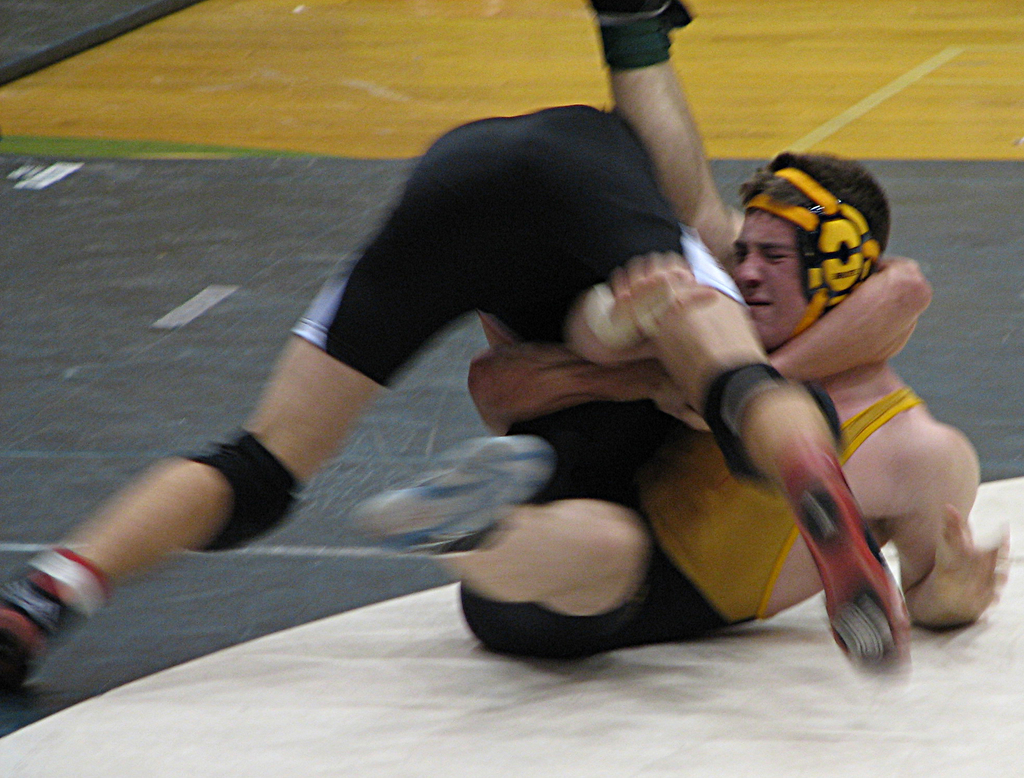Human_hand: (603, 251, 721, 351), (928, 501, 1013, 621), (649, 372, 710, 433)
